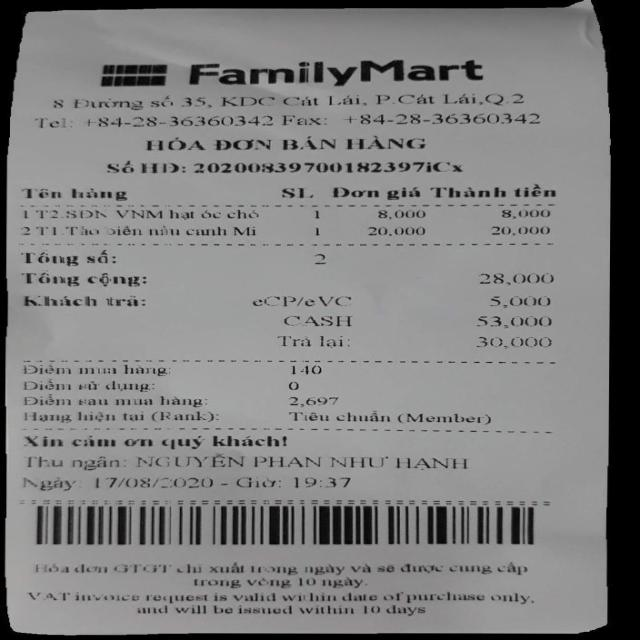Date: (85, 474, 216, 492)
Store_Name: (178, 53, 507, 91)
amount_number: (470, 268, 561, 288)
label_total: (17, 270, 155, 288)
